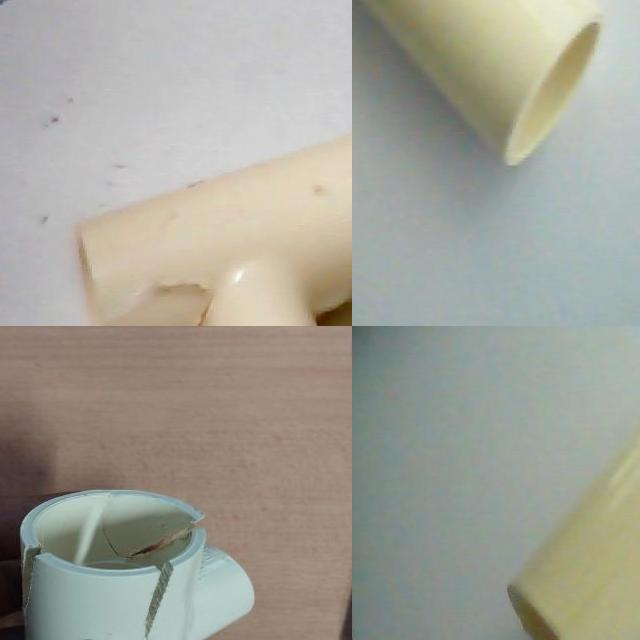Defective: (124, 557, 211, 640), (156, 502, 250, 572), (100, 270, 216, 326), (14, 544, 83, 604)
T Joint: (76, 133, 352, 326), (355, 0, 604, 168), (506, 428, 640, 640)
